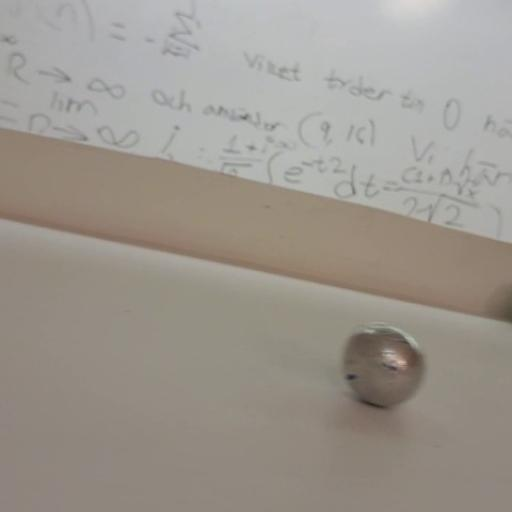alive: (342, 323, 423, 407)
